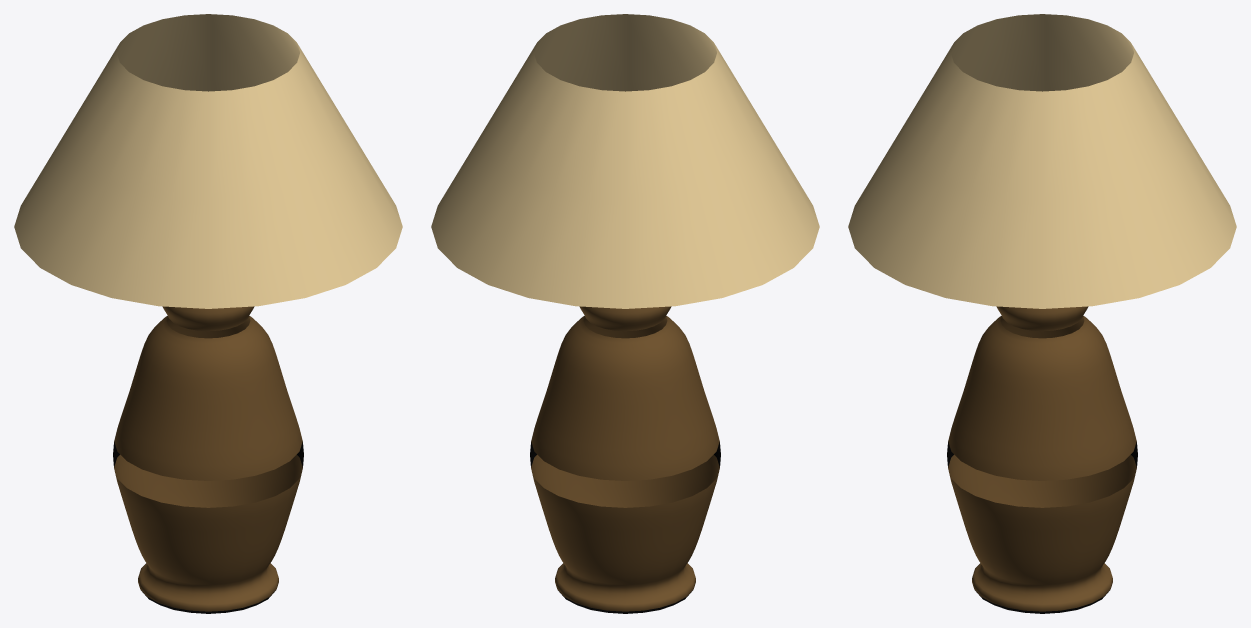
Rendered from uploads_files_3398217_ModelLamp.fbx.
The picture shows the model from 3 angles, left to right: view 1: azimuth 30°, elevation 25°; view 2: azimuth 150°, elevation 25°; view 3: azimuth 270°, elevation 25°; orthographic projection.
Parts seen in each view (by area): view 1: Lamp; view 2: Lamp; view 3: Lamp.
Part boxes in pixels (bbox=[...]): Lamp: bbox=[14, 14, 402, 613]; Lamp: bbox=[431, 14, 819, 613]; Lamp: bbox=[848, 14, 1236, 613].
Size of the model in its own units: 526 by 800 by 526.
